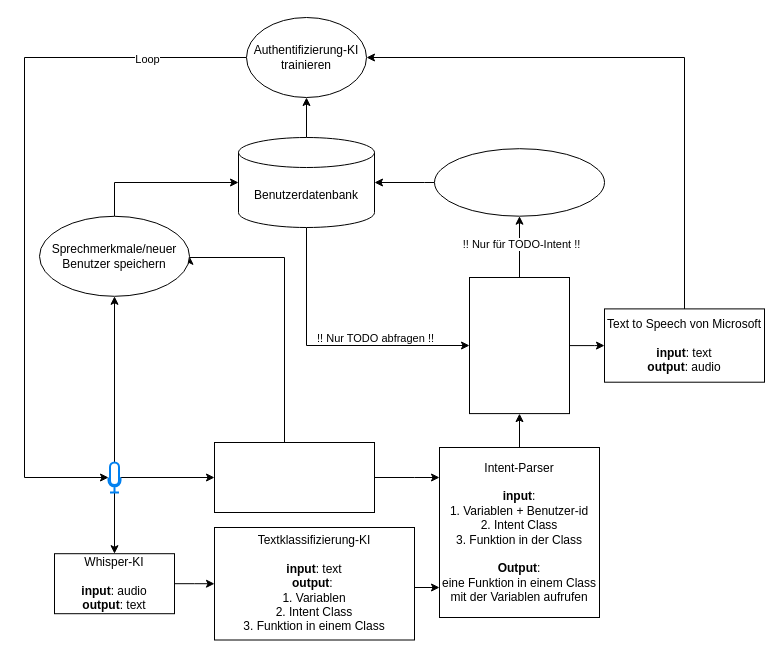
The diagram is 782 pixels wide and 658 high, and some of its shapes have lost their labels. Each missing label, with the centre of its shape:
Authetifizierung input : Audio/Benutzername output : Benutzer-id: point 294,477
Intents Class input : Variablen +benutzer-id output : Textsatz: point 519,345
TODO löschen/eingeben/abfragen: point 519,182
